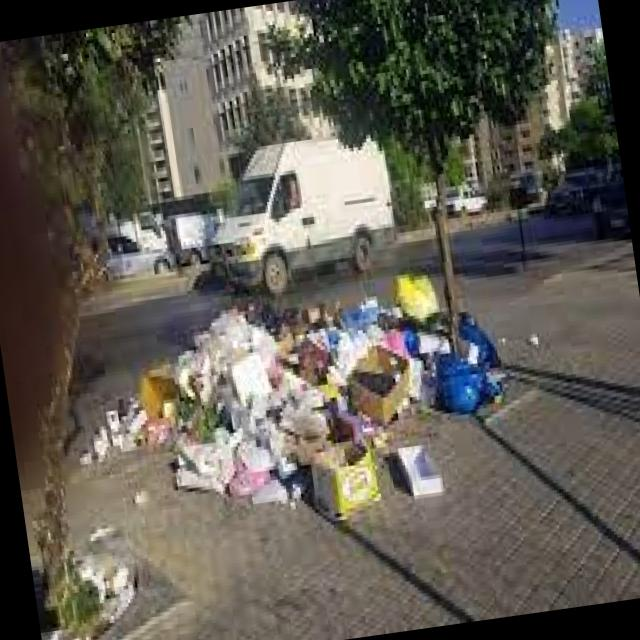high trash: (82, 274, 500, 518)
